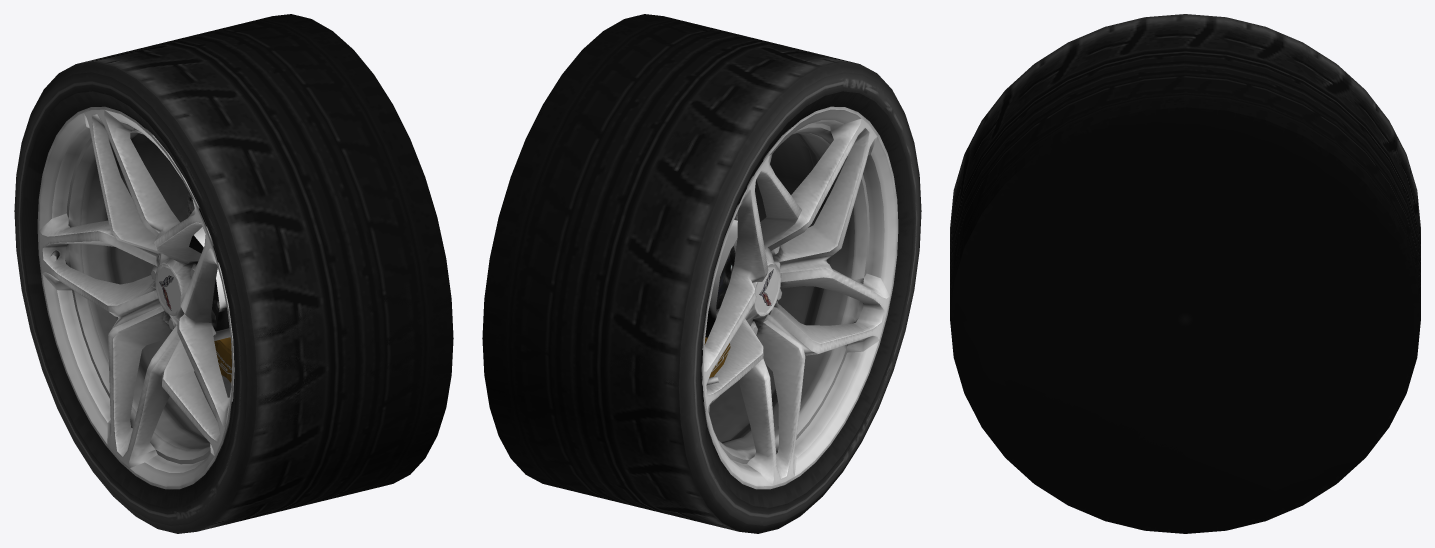
The model's file is misc_r_wheels_s.fbx.
3 views of the same model, side by side, from view 1: azimuth 30°, elevation 25°; view 2: azimuth 150°, elevation 25°; view 3: azimuth 270°, elevation 25° (orthographic). The views are drawn at different scales.
Visible parts, largest first — view 1: Tirerr_garage, Rimrl_garage_vcolor, Tirerl_garage, support_rr1_vcolor; view 2: Tirerr_garage, Rimrl_garage_vcolor, Tirerl_garage; view 3: Tirerr_garage, Tirerl_garage, Tire_LP_rl_garage, Tire_LP_rr_garage.
Boxes of the visible parts, x1,y1,x2,y2 form: Tirerr_garage: (14,14,453,526); Rimrl_garage_vcolor: (37,106,234,489); Tirerl_garage: (14,63,453,533); support_rr1_vcolor: (214,337,231,382); Tirerr_garage: (482,14,921,532); Rimrl_garage_vcolor: (701,106,898,489); Tirerl_garage: (482,72,921,533); Tirerr_garage: (950,14,1420,533); Tirerl_garage: (950,43,1420,533); Tire_LP_rl_garage: (993,147,1377,485); Tire_LP_rr_garage: (993,147,1377,485).
Size of the model in its own units: 1.21 by 2.46 by 2.46.
